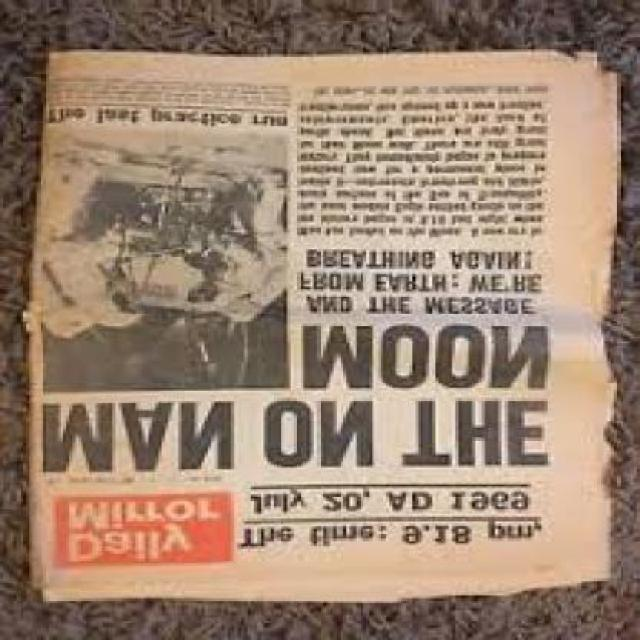PAPER: (29, 57, 611, 603)
